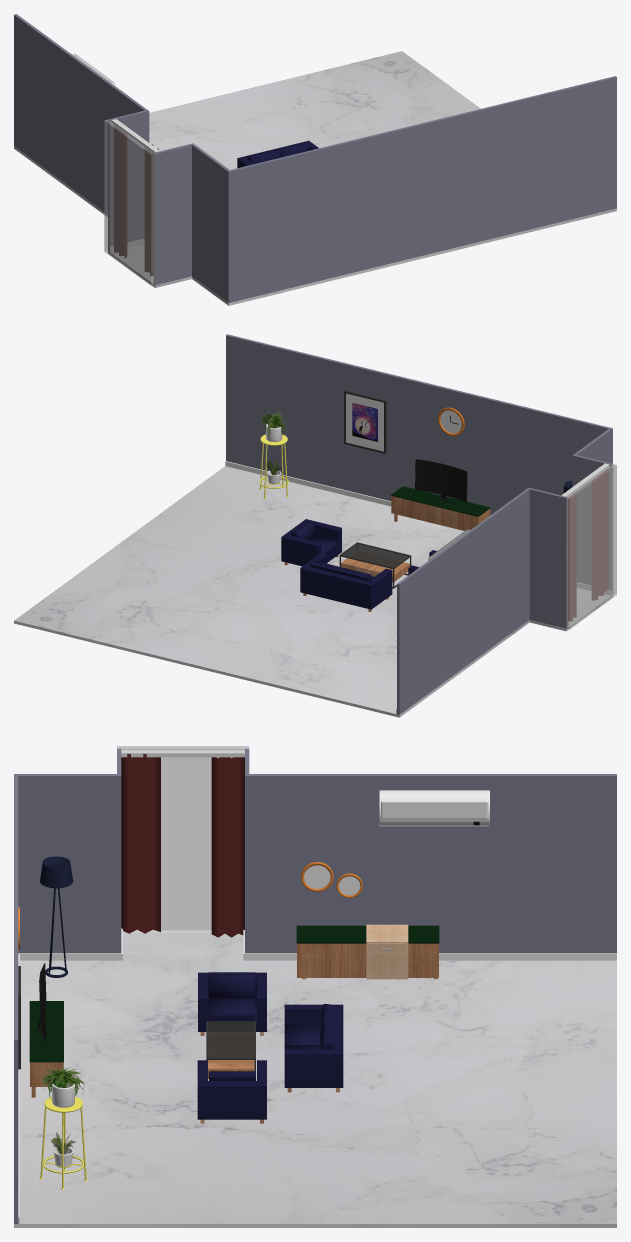
Rendered from living-room.glb.
3 renders of one model, top to bottom at view 1: azimuth 30°, elevation 25°; view 2: azimuth 150°, elevation 25°; view 3: azimuth 270°, elevation 25°, orthographic. The views are drawn at different scales.
Visible parts, largest first — view 1: Cube.038, Floor, Cube.041, Cube.006, Plane.003, Plane.002, Cube.003; view 2: Floor, Cube.038, Cube.041, Cube.006, Cube.004, Plane.002, Cube.024, Cube.027, Cube.021, Plane.003, Cube.029, Cube.011 (+5 smaller); view 3: Floor, Cube.041, Cube.038, Cube.006, Plane.002, Plane.003, Cube.004, Cube.030, Cube.021, Cube.012, Cube.028, Cube.035 (+14 smaller).
Boxes of the visible parts, box(x1,y1,x2,y2) form: Cube.038: box(153, 76, 616, 302); Floor: box(14, 51, 616, 305); Cube.041: box(14, 14, 149, 251); Cube.006: box(104, 119, 155, 285); Plane.003: box(114, 125, 126, 257); Plane.002: box(145, 144, 158, 275); Cube.003: box(247, 141, 309, 163); Floor: box(14, 466, 613, 717); Cube.038: box(226, 334, 612, 594); Cube.041: box(397, 487, 567, 714); Cube.006: box(566, 464, 616, 628); Cube.004: box(300, 553, 392, 609); Plane.002: box(592, 465, 608, 600); Cube.024: box(391, 496, 490, 530); Cube.027: box(415, 459, 466, 501); Cube.021: box(281, 519, 341, 566); Plane.003: box(568, 492, 576, 621); Cube.029: box(391, 486, 490, 516); Cube.011: box(346, 393, 383, 451); Floor: box(14, 933, 616, 1227); Cube.041: box(245, 748, 616, 953); Cube.038: box(14, 748, 121, 1223); Cube.006: box(117, 746, 249, 932); Plane.002: box(121, 753, 160, 933); Plane.003: box(211, 757, 244, 937); Cube.004: box(284, 1004, 343, 1087); Cube.030: box(297, 943, 438, 977); Cube.021: box(197, 1060, 266, 1119); Cube.012: box(379, 790, 489, 826); Cube.028: box(381, 801, 488, 819); Cube.035: box(366, 924, 408, 979).
Size of the model in its own units: 11.3 by 3.37 by 9.8.
20 materials, 6 textured.
